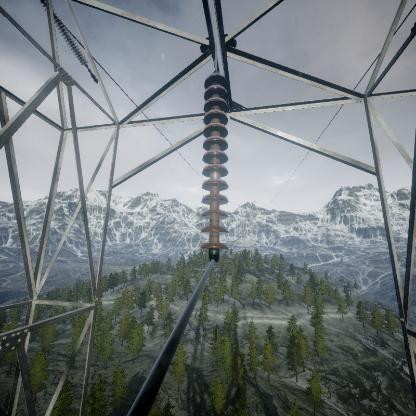insulator: (200, 73, 231, 262)
